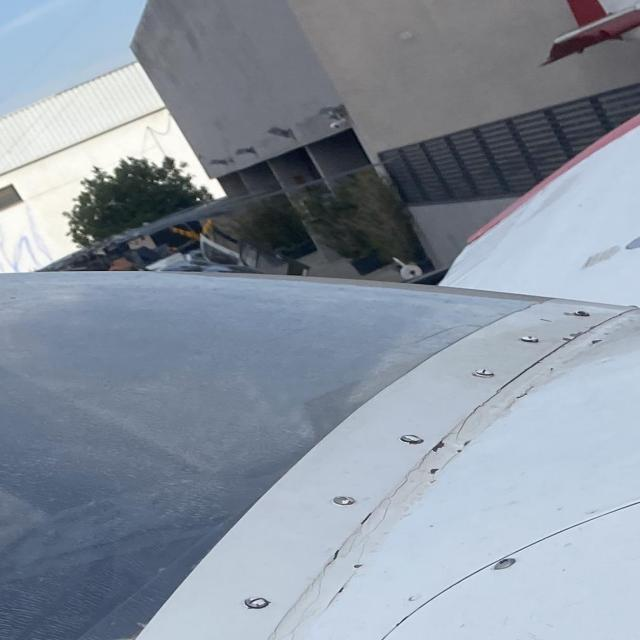Paint-off: (357, 509, 378, 526), (432, 436, 449, 452), (329, 547, 341, 562), (352, 561, 364, 569), (429, 467, 441, 474)
